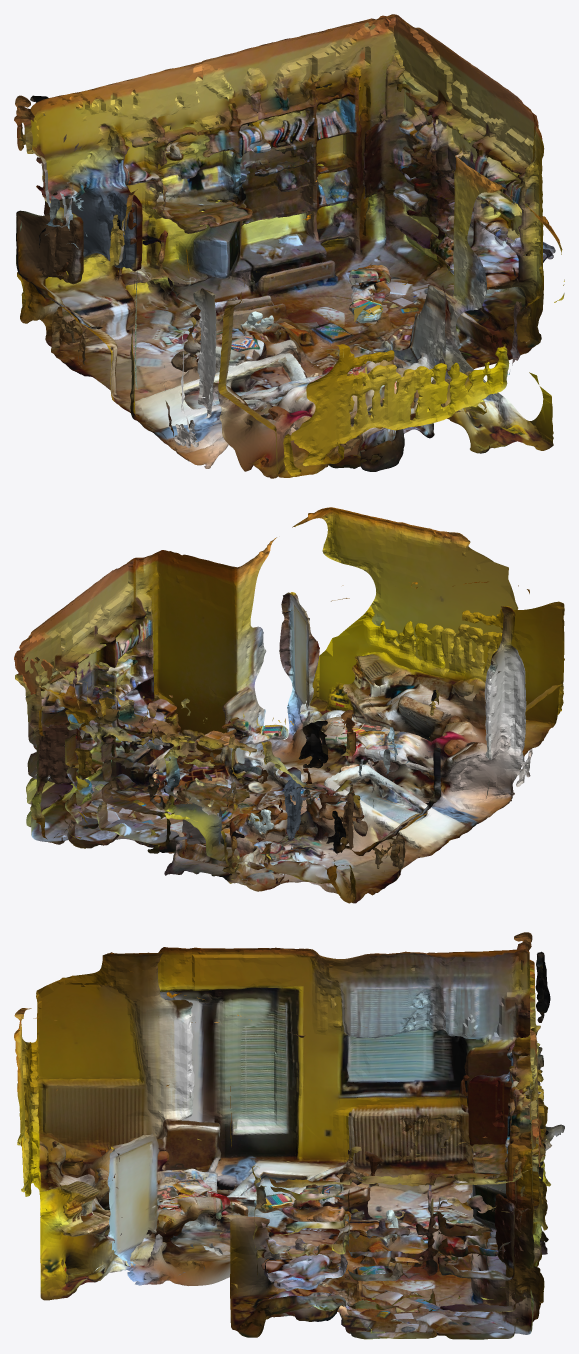
3 views of the same model, one above another, from view 1: azimuth 30°, elevation 25°; view 2: azimuth 150°, elevation 25°; view 3: azimuth 270°, elevation 25° (orthographic). The views are drawn at different scales.
Bounding box in the file's own units: 5.86 × 3.09 × 6.57.
Materials: 2 (2 with a texture image).
